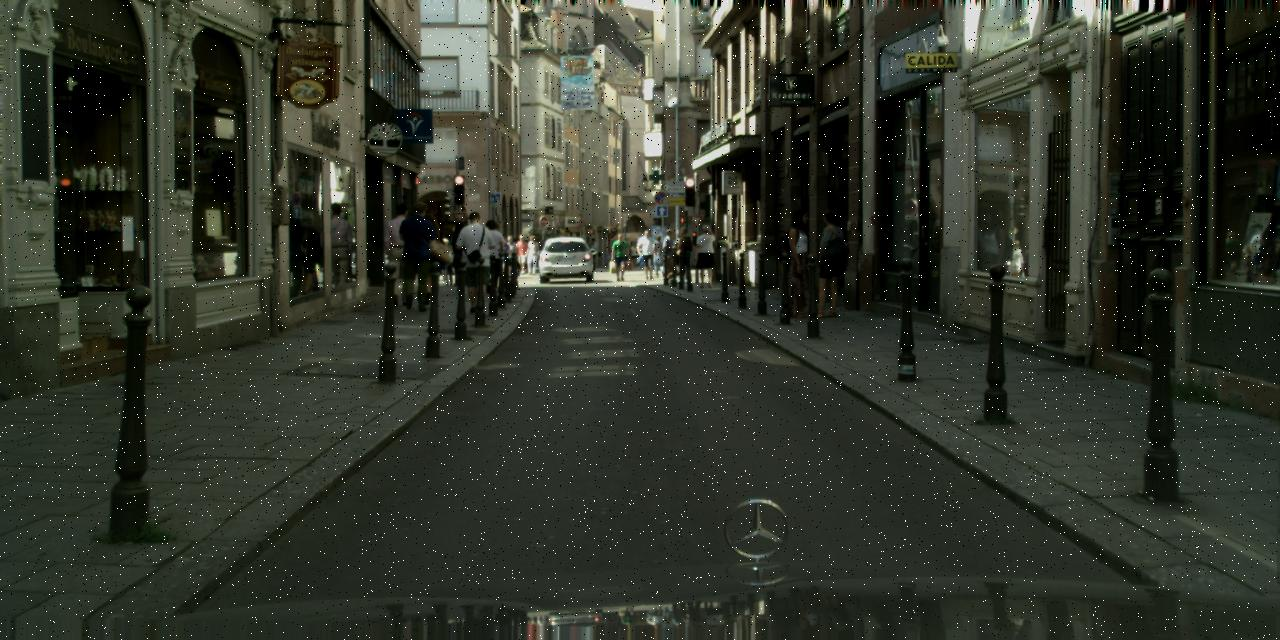ped: (807, 207, 851, 317), (778, 208, 822, 316), (396, 202, 439, 309), (379, 201, 422, 306), (454, 211, 496, 313), (408, 212, 446, 306), (476, 218, 506, 292), (445, 220, 474, 291), (693, 224, 718, 287), (672, 226, 695, 283), (658, 226, 678, 278), (638, 230, 658, 280), (611, 232, 631, 280), (437, 238, 456, 286), (649, 233, 667, 276), (513, 234, 529, 274), (502, 234, 518, 274), (496, 236, 511, 275), (524, 236, 538, 274), (586, 237, 600, 271), (527, 235, 539, 267), (629, 241, 639, 268)
